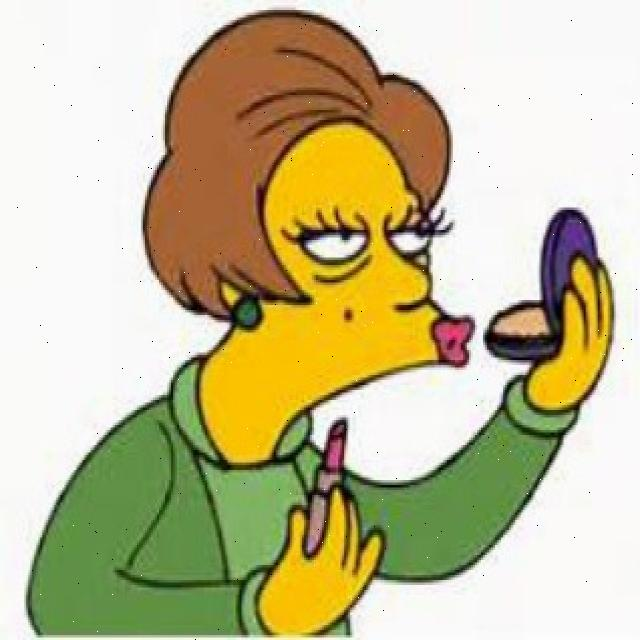Edna Krappel: (141, 9, 475, 466)
